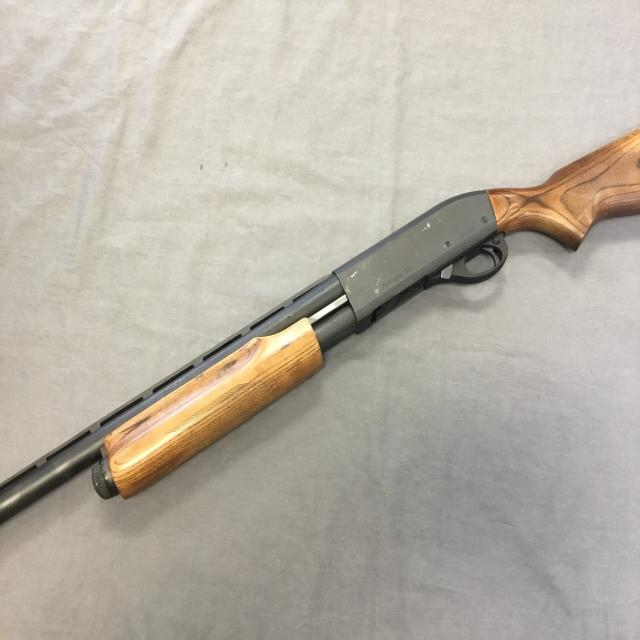ShotGun: (0, 146, 640, 528)
